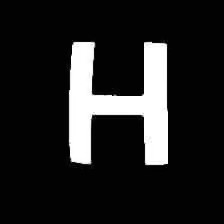LTR_H: (58, 27, 178, 176)
